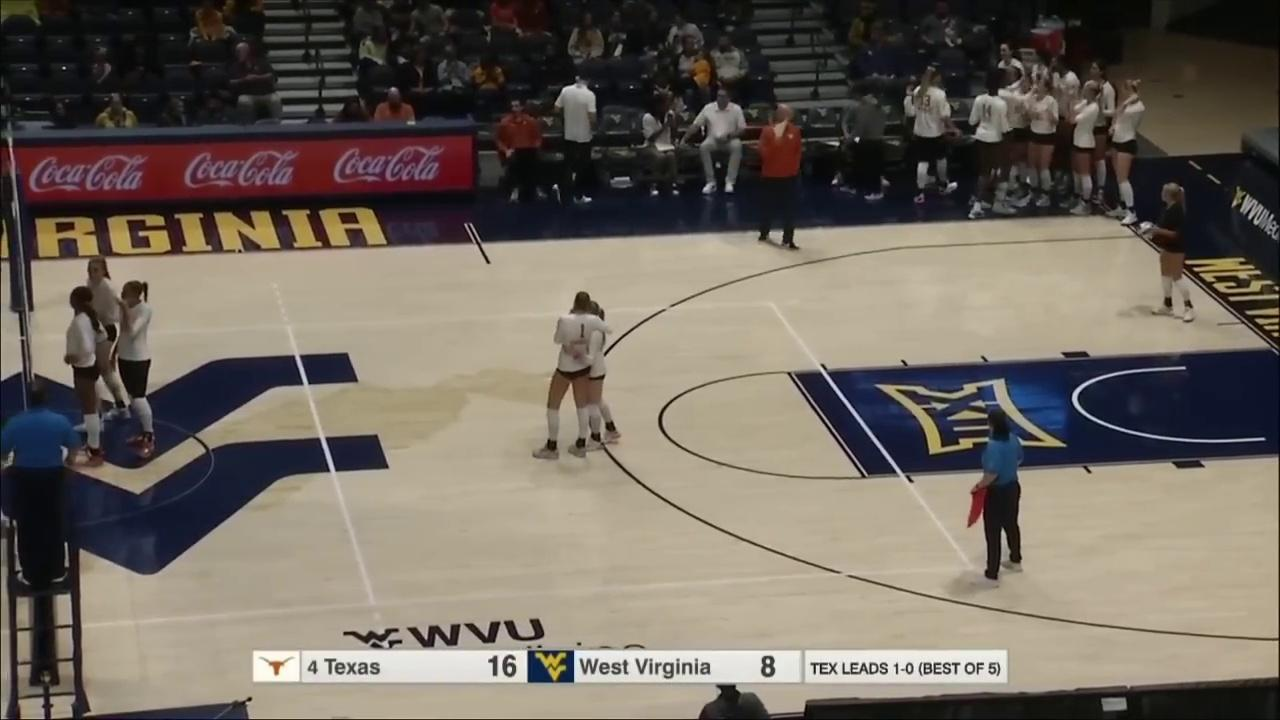player: (537, 292, 610, 457), (75, 257, 130, 419), (109, 280, 159, 456), (65, 289, 111, 465), (573, 301, 624, 453), (1145, 181, 1199, 323)
refree: (5, 390, 75, 585), (969, 408, 1024, 587)
